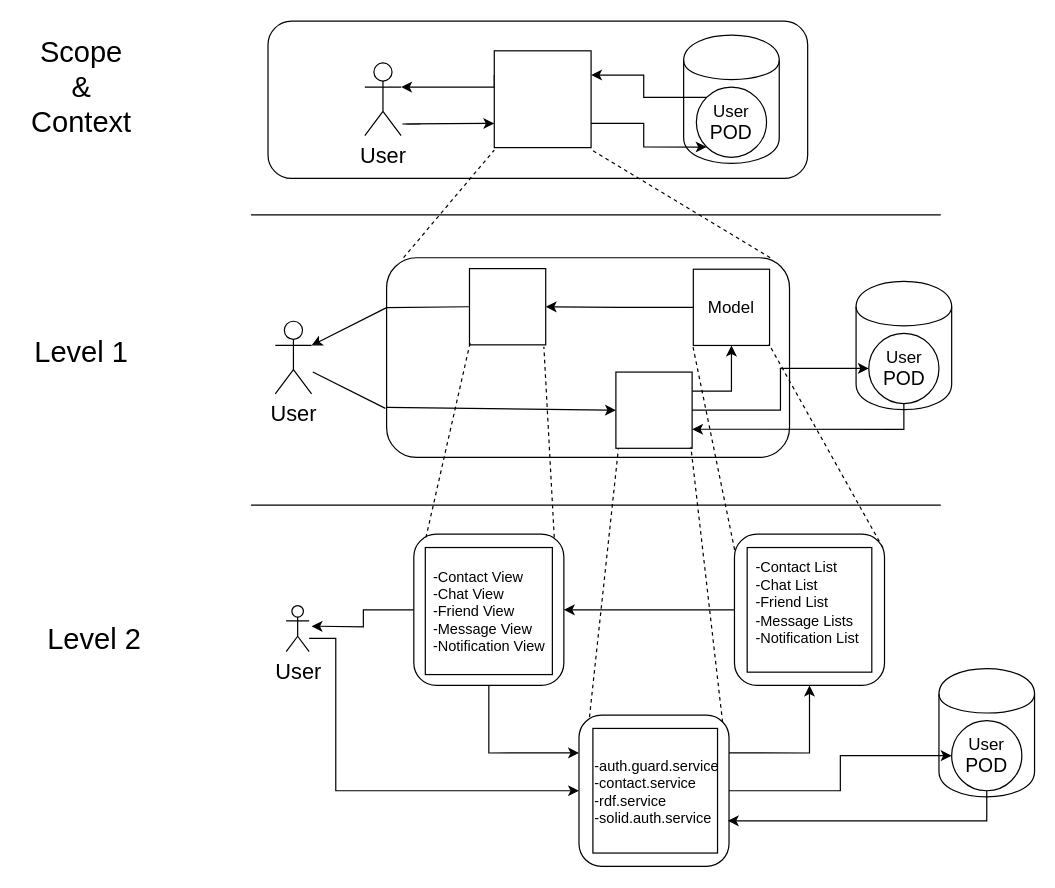
The diagram is 1055 pixels wide and 888 high, and some of its shapes have lost their labels. The shapes that lost their labels are listed below. From the top down, each one's centre as x and y in pixels, then its label:
At [542,99]: "DeChat".
At [507,306]: "View".
At [653,409]: "Controller".
